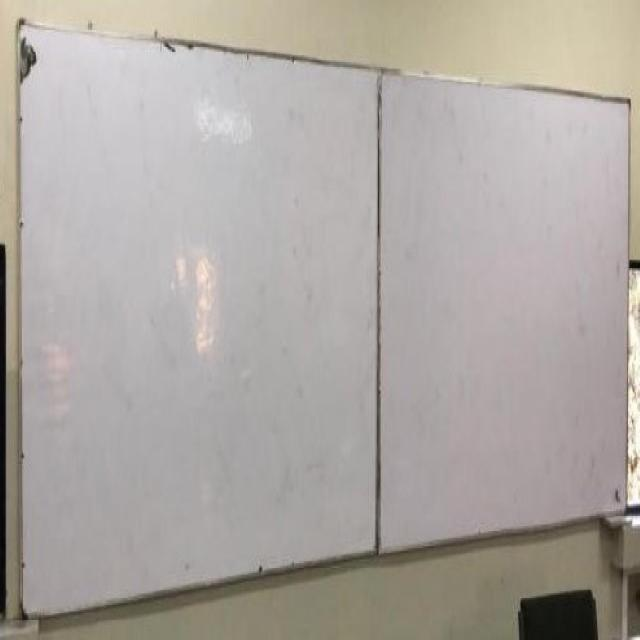White-board: (22, 22, 628, 610)
